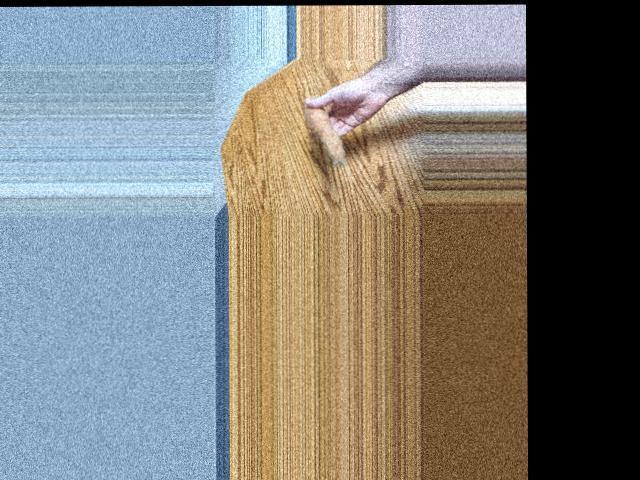sweet_potato: (302, 94, 352, 169)
